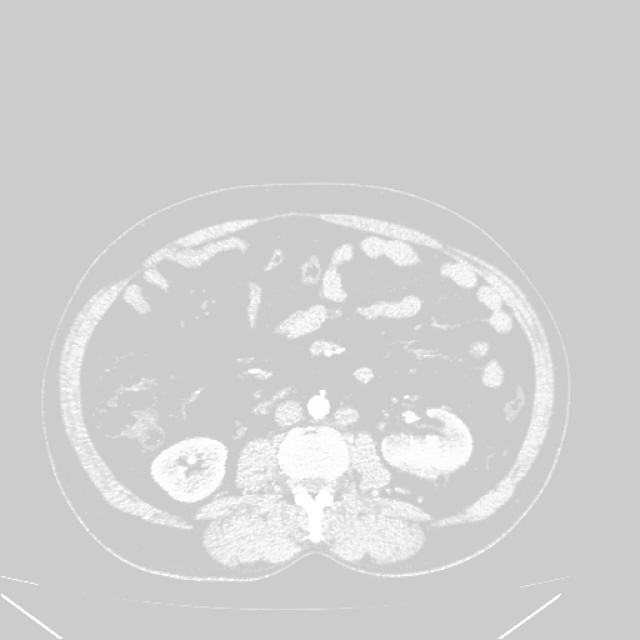TUMOR: (116, 298, 539, 499)
